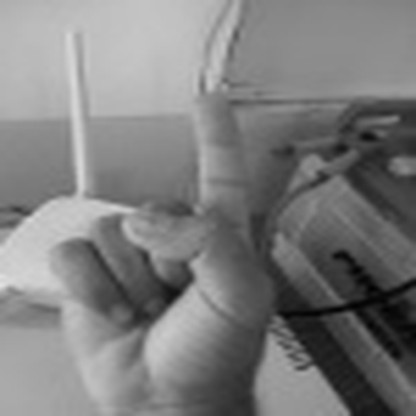d: (50, 89, 260, 416)
